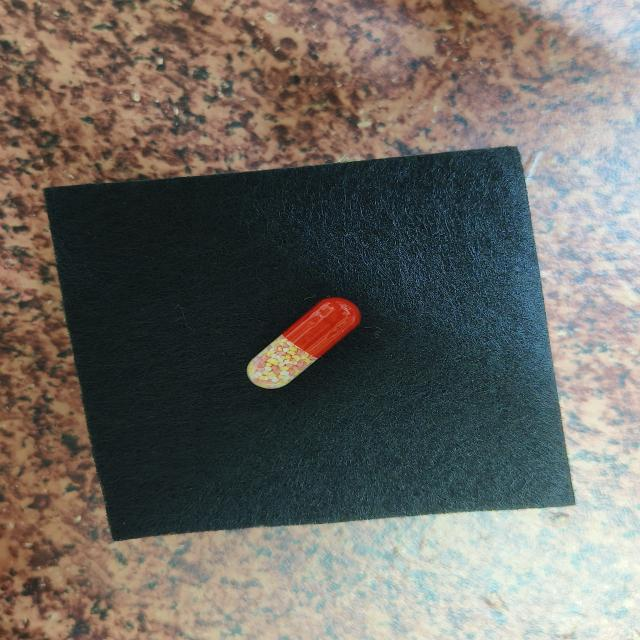Intact Capsule: (246, 297, 361, 389)
